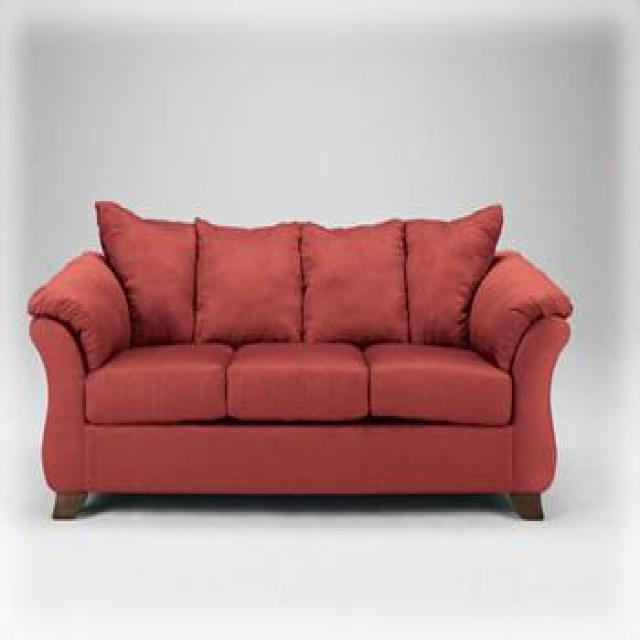sofa: (24, 197, 572, 526)
